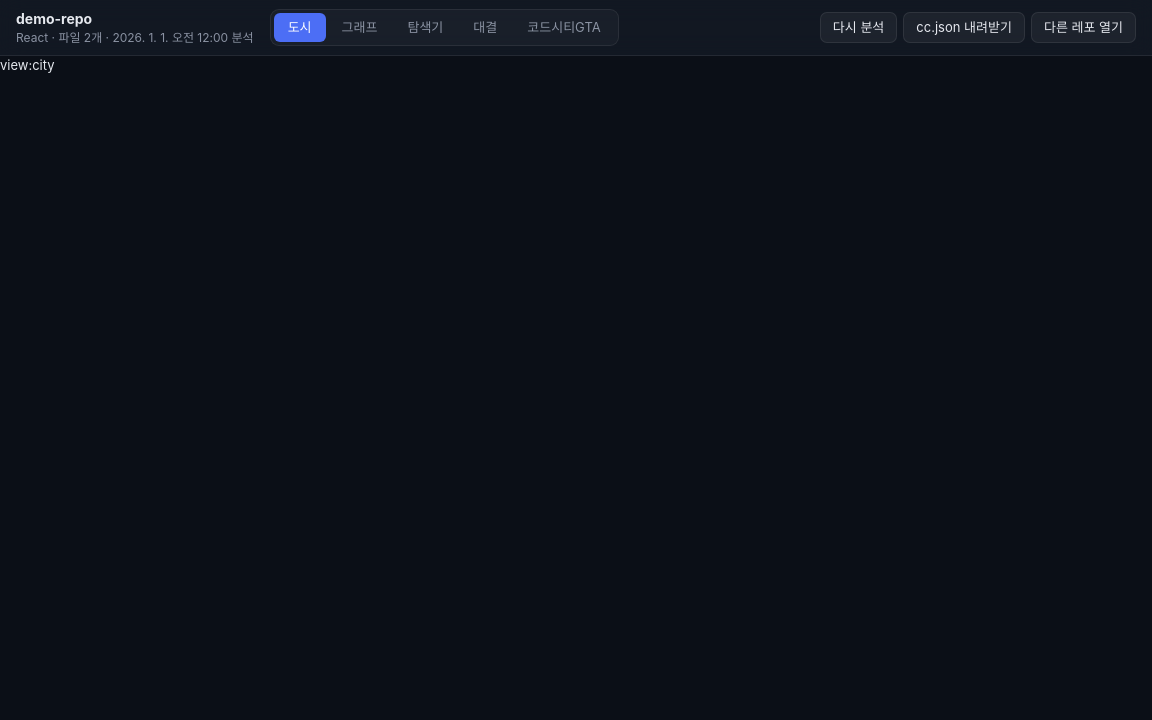
ViewerShell › tab click disposes previous mount and mounts the new one
Expected: the text "view:city" is shown, x1=0 y1=57 x2=55 y2=73
Step 1. Click the tab "그래프" → (359, 28), box x1=328 y1=13 x2=391 y2=42
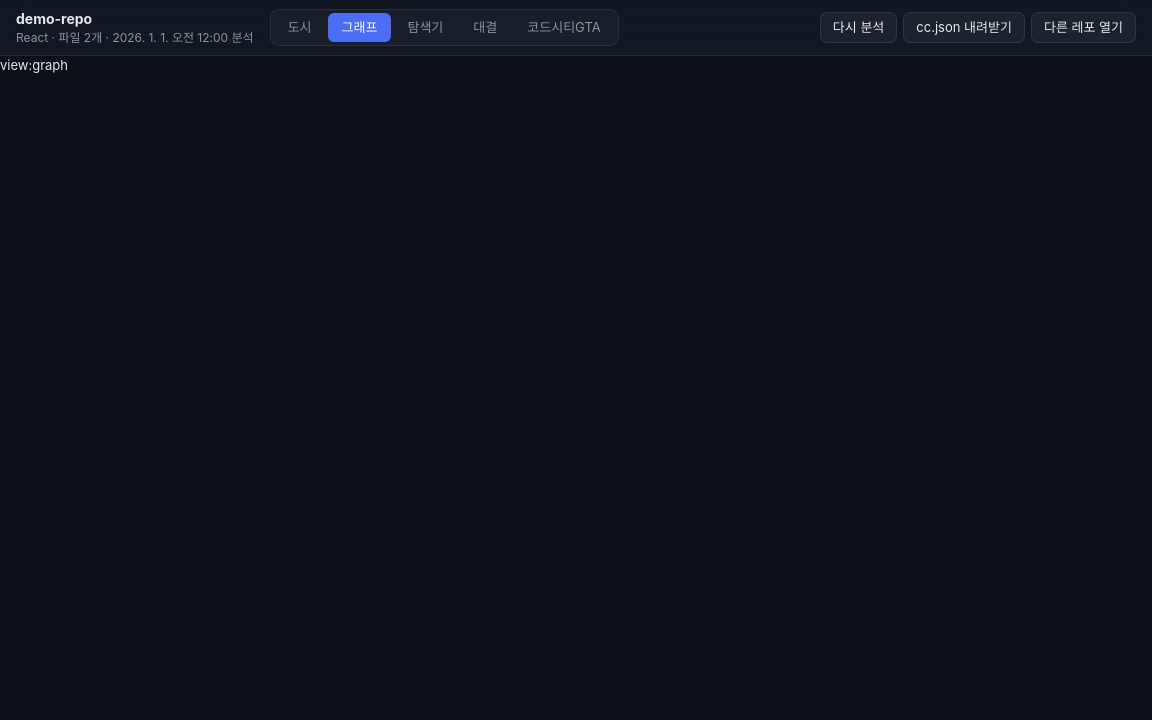
Expected: the text "view:graph" is shown, x1=0 y1=57 x2=68 y2=73
Expected: the text "view:city" is gone
